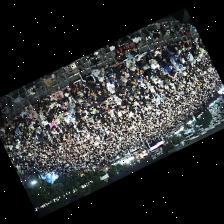person: (77, 65, 96, 85), (145, 51, 160, 70), (68, 80, 82, 95), (167, 48, 181, 62), (144, 63, 156, 79), (112, 61, 125, 75), (92, 67, 104, 80), (58, 101, 68, 116), (127, 66, 139, 78), (50, 90, 63, 101), (40, 96, 51, 109), (81, 85, 92, 97), (135, 53, 145, 66), (164, 63, 175, 74), (65, 111, 73, 126), (126, 57, 136, 69), (12, 114, 22, 126), (91, 83, 101, 95), (106, 79, 115, 92), (160, 64, 169, 77), (153, 44, 161, 58), (39, 109, 47, 123), (120, 84, 130, 95), (96, 76, 106, 87), (167, 42, 177, 53), (116, 72, 128, 81), (67, 96, 76, 107), (6, 117, 15, 128), (104, 64, 111, 78), (29, 110, 37, 122), (83, 99, 91, 111), (67, 104, 75, 116), (21, 108, 28, 121), (50, 98, 57, 111), (116, 77, 126, 86), (96, 95, 105, 105), (139, 73, 148, 83), (50, 118, 57, 130), (78, 91, 86, 101), (187, 51, 194, 62), (62, 86, 70, 95), (111, 39, 120, 47), (188, 38, 196, 47), (111, 68, 116, 82), (59, 97, 66, 107), (183, 40, 191, 48), (114, 94, 121, 103), (57, 112, 63, 122), (43, 107, 49, 115)
